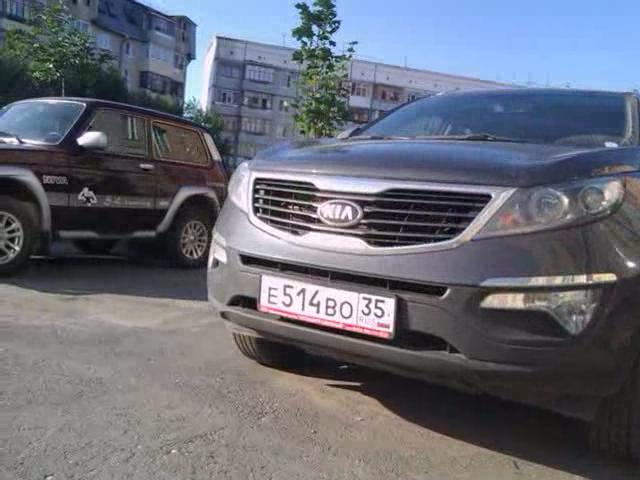car license plate: (257, 272, 394, 343)
